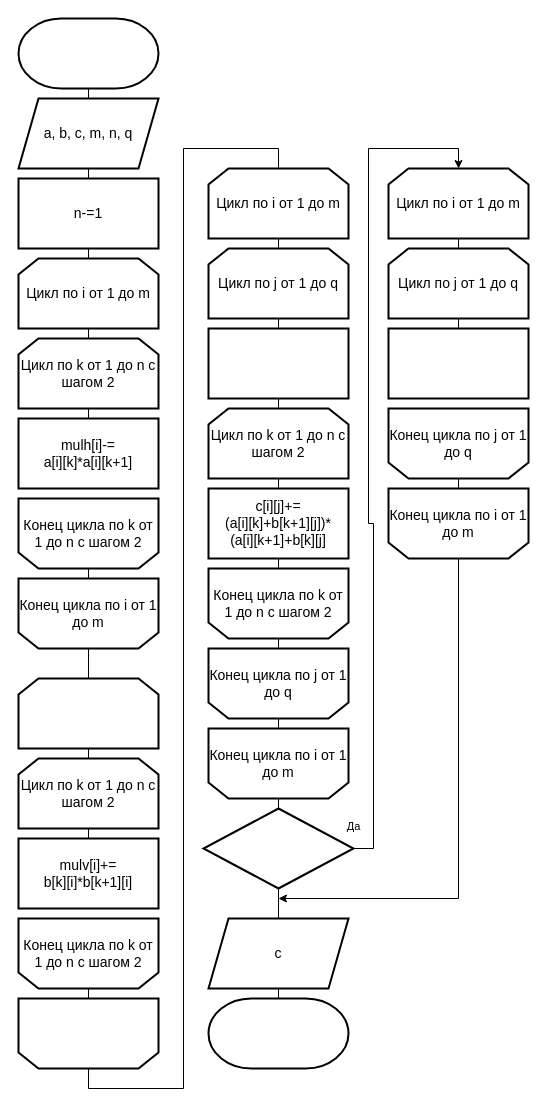
This 546x1107 diagram has some shape labels left out. Here are the shapes that lost their labels. From the top down, the centre of each, then its label:
At point 88,53: "Начало программы standart".
At point 278,363: "c[i][j]=mulh[i]-mulv[j]".
At point 458,363: "c[i][j]+= a[i][n]*b[n][j]".
At point 88,713: "Цикл по i от 1 до q".
At point 278,848: "n%2==0?".
At point 88,1033: "Конец цикла по i от 1 до q".
At point 278,1033: "Конец программы standart".
